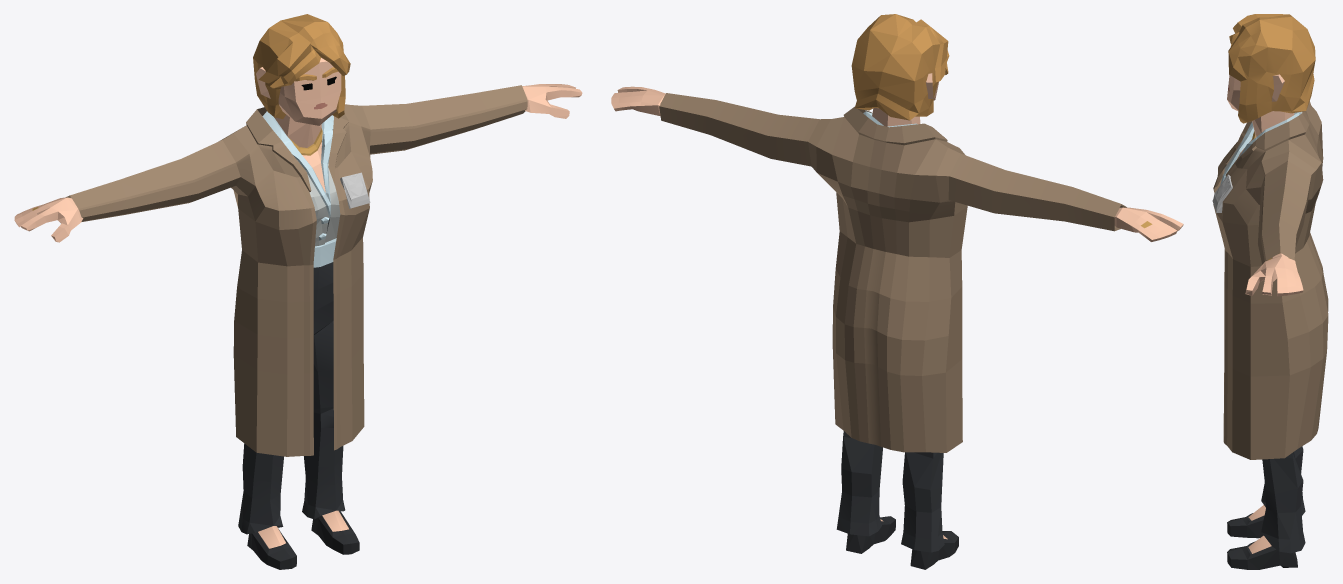
Rendered from dedektif.fbx.
3 views of the same model, side by side, from view 1: azimuth 30°, elevation 25°; view 2: azimuth 150°, elevation 25°; view 3: azimuth 270°, elevation 25° (orthographic).
Visible parts, largest first — view 1: polySurface1, SK_Chr_Boss_Female_01, SK_Character_Female_Police1; view 2: polySurface1, SK_Chr_Boss_Female_01; view 3: polySurface1, SK_Chr_Boss_Female_01, SK_Character_Female_Police1.
Part boxes in pixels (bbox=[...]): polySurface1: bbox=[65, 85, 527, 456]; SK_Chr_Boss_Female_01: bbox=[14, 14, 582, 569]; SK_Character_Female_Police1: bbox=[340, 172, 370, 208]; polySurface1: bbox=[659, 93, 1126, 452]; SK_Chr_Boss_Female_01: bbox=[611, 14, 1183, 569]; polySurface1: bbox=[1213, 101, 1328, 459]; SK_Chr_Boss_Female_01: bbox=[1220, 14, 1315, 569]; SK_Character_Female_Police1: bbox=[1212, 174, 1232, 212].
Size of the model in its own units: 204 by 184 by 36.23.
